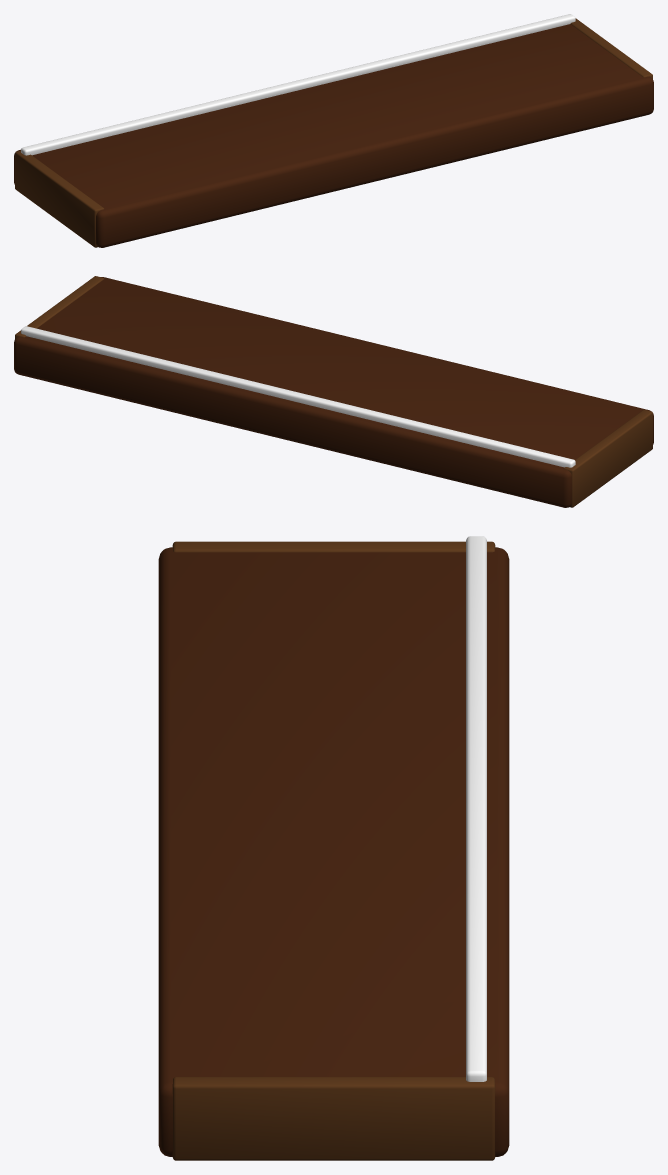
File: short-wooden-plank.obj
3 views of the same model, one above another, from view 1: azimuth 30°, elevation 25°; view 2: azimuth 150°, elevation 25°; view 3: azimuth 270°, elevation 25° (orthographic). The views are drawn at different scales.
Visible parts, largest first — view 1: short-wooden-plank; view 2: short-wooden-plank; view 3: short-wooden-plank.
Boxes of the visible parts, x1,y1,x2,y2 form: short-wooden-plank: [14, 14, 653, 247]; short-wooden-plank: [14, 276, 653, 507]; short-wooden-plank: [158, 536, 509, 1160].
Size of the model in its own units: 1.1 by 0.081 by 0.3.
